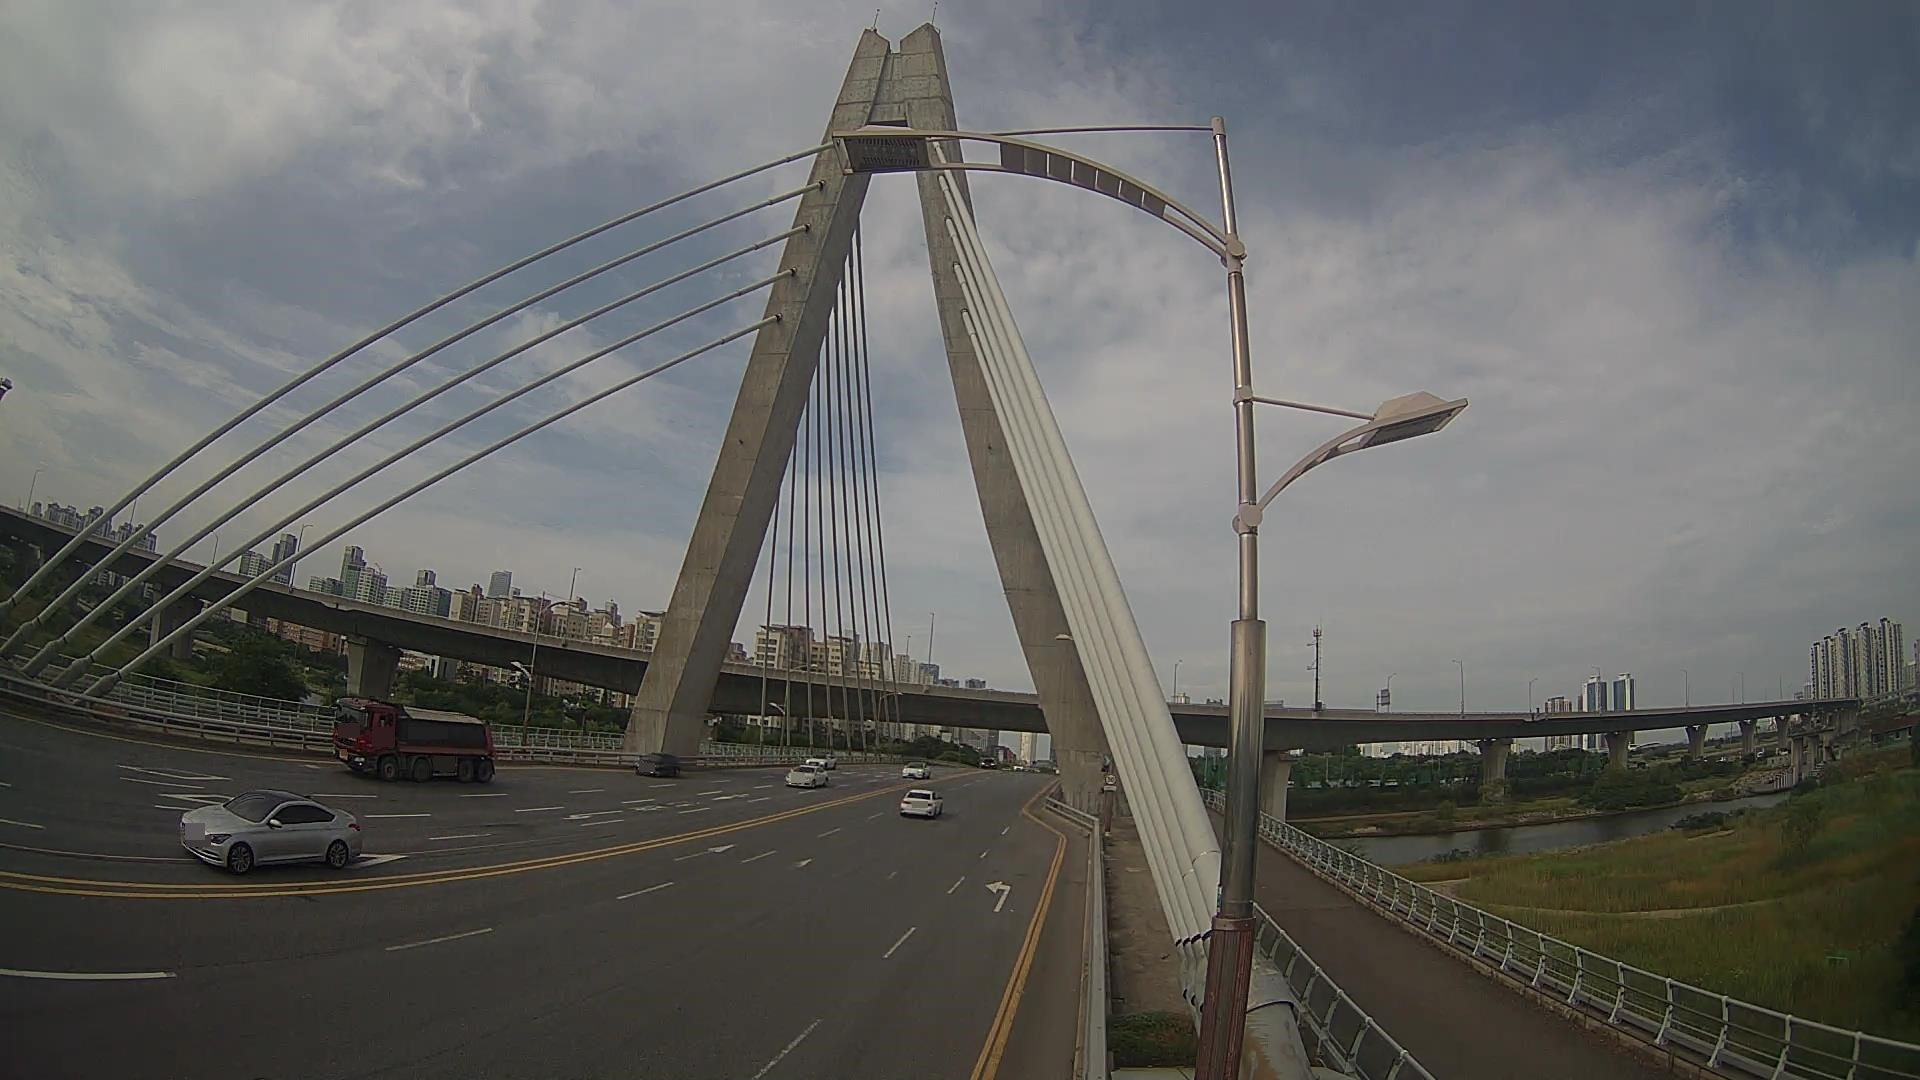정상차량: (333, 696, 496, 781)
